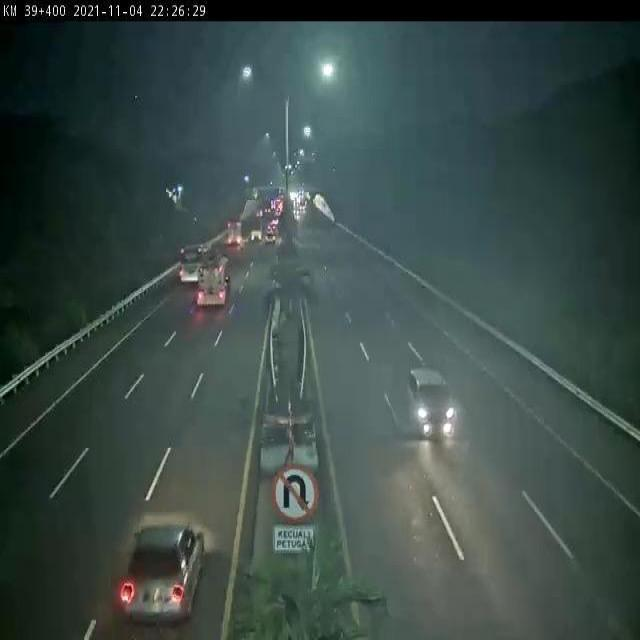car: (95, 499, 206, 628), (396, 360, 469, 441)
truck: (198, 247, 232, 316), (172, 239, 208, 295)
